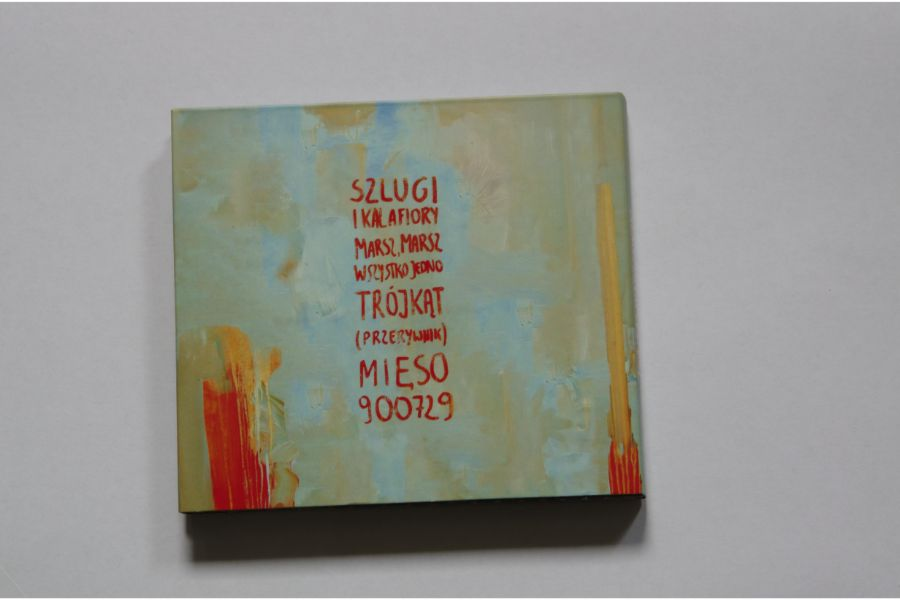album: (168, 93, 653, 509)
